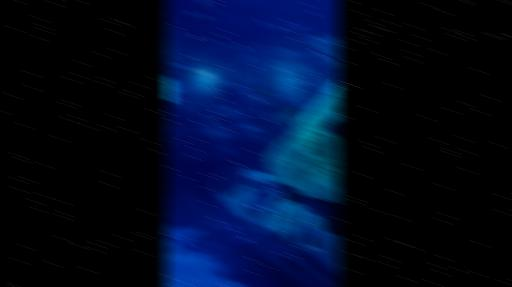Fish: (276, 18, 315, 34), (275, 104, 300, 127), (322, 201, 339, 233), (280, 184, 303, 203), (271, 230, 290, 244), (326, 118, 339, 135), (170, 63, 191, 71), (258, 133, 269, 147), (238, 0, 259, 7), (304, 234, 315, 245), (257, 86, 268, 97), (233, 16, 246, 25), (163, 12, 172, 24), (256, 20, 267, 28), (198, 13, 211, 19), (185, 11, 196, 17), (195, 0, 208, 5), (273, 24, 282, 30), (207, 40, 218, 44), (176, 21, 185, 25), (257, 108, 261, 117), (264, 75, 271, 79), (310, 12, 317, 16), (189, 34, 196, 38), (209, 8, 216, 12)
